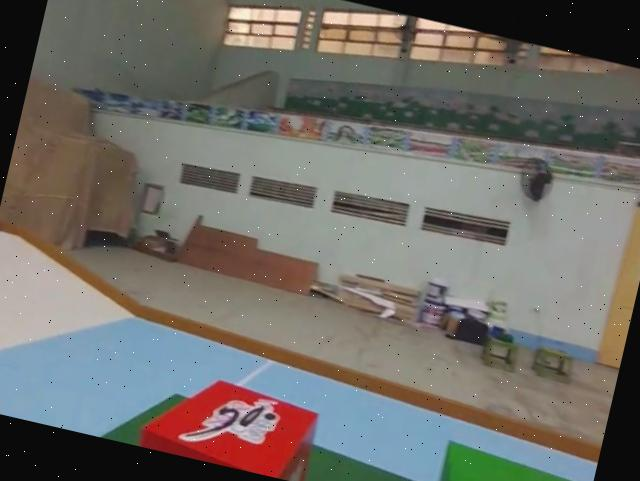R1: (138, 362, 324, 481)
